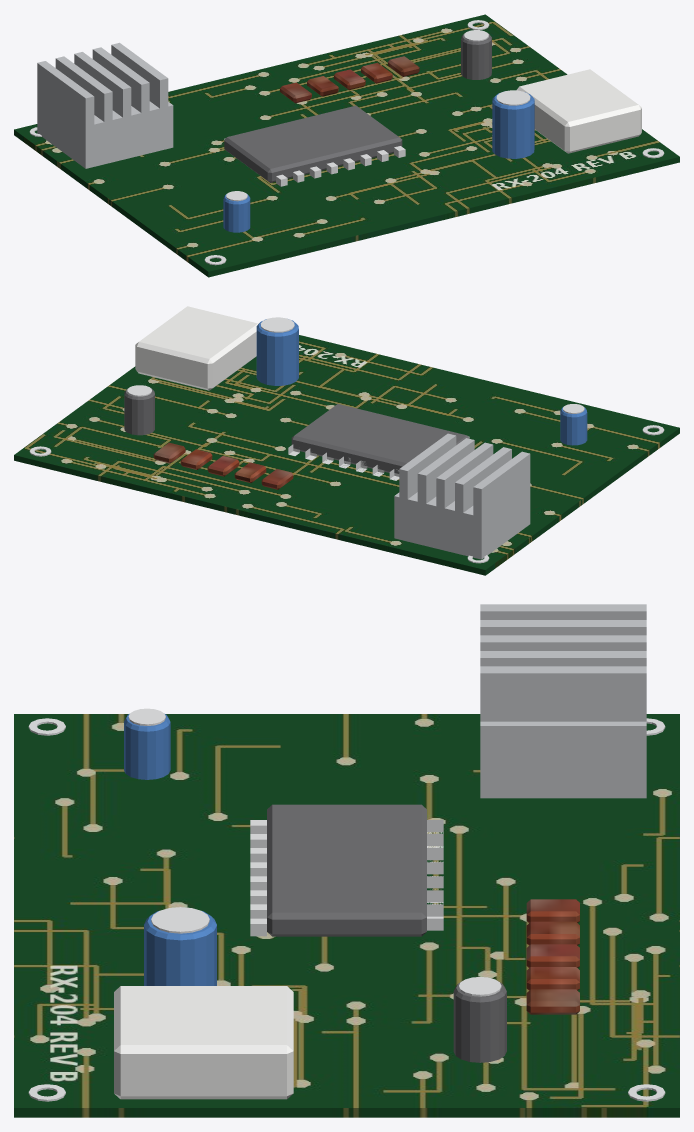
The model's file is placa_circuito.glb.
The picture shows the model from 3 angles, top to bottom: view 1: azimuth 30°, elevation 25°; view 2: azimuth 150°, elevation 25°; view 3: azimuth 270°, elevation 25°; orthographic projection. The views are drawn at different scales.
Parts seen in each view (by area): view 1: placa_circuito_pcb, placa_circuito_aco, placa_circuito_plastico_preto, placa_circuito_plastico_branco, placa_circuito_fio_azul, placa_circuito_aco_polido, placa_circuito_tijolo; view 2: placa_circuito_pcb, placa_circuito_aco, placa_circuito_plastico_preto, placa_circuito_plastico_branco, placa_circuito_fio_azul, placa_circuito_tijolo, placa_circuito_aco_polido; view 3: placa_circuito_pcb, placa_circuito_aco, placa_circuito_plastico_preto, placa_circuito_plastico_branco, placa_circuito_aco_polido, placa_circuito_fio_azul, placa_circuito_tijolo.
Part boxes in pixels (x1,y1,x2,y2): placa_circuito_pcb: (14, 14, 679, 277); placa_circuito_aco: (37, 42, 173, 168); placa_circuito_plastico_preto: (224, 32, 491, 182); placa_circuito_plastico_branco: (516, 69, 641, 153); placa_circuito_fio_azul: (223, 92, 534, 232); placa_circuito_aco_polido: (29, 20, 664, 265); placa_circuito_tijolo: (280, 56, 419, 103); placa_circuito_pcb: (14, 335, 679, 575); placa_circuito_aco: (394, 433, 530, 559); placa_circuito_plastico_preto: (124, 388, 469, 473); placa_circuito_plastico_branco: (135, 306, 258, 390); placa_circuito_fio_azul: (256, 319, 587, 445); placa_circuito_tijolo: (153, 442, 293, 489); placa_circuito_aco_polido: (29, 317, 664, 563); placa_circuito_pcb: (14, 714, 679, 1117); placa_circuito_aco: (480, 604, 646, 798); placa_circuito_plastico_preto: (267, 804, 506, 1062); placa_circuito_plastico_branco: (114, 986, 293, 1099); placa_circuito_aco_polido: (28, 708, 665, 1101); placa_circuito_fio_azul: (124, 714, 216, 985); placa_circuito_tijolo: (526, 899, 579, 1014).
Bounding box in the file's own units: 0.14 × 0.0218 × 0.1.
7 materials, 2 textured.
